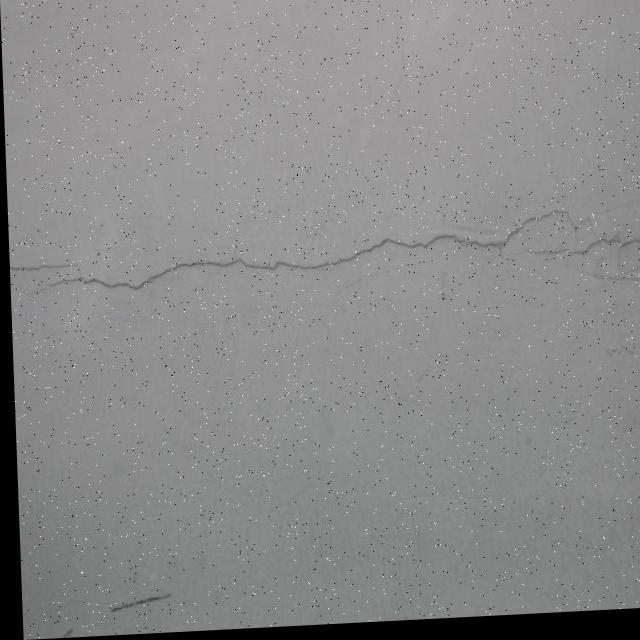Crack: (7, 200, 640, 336)
